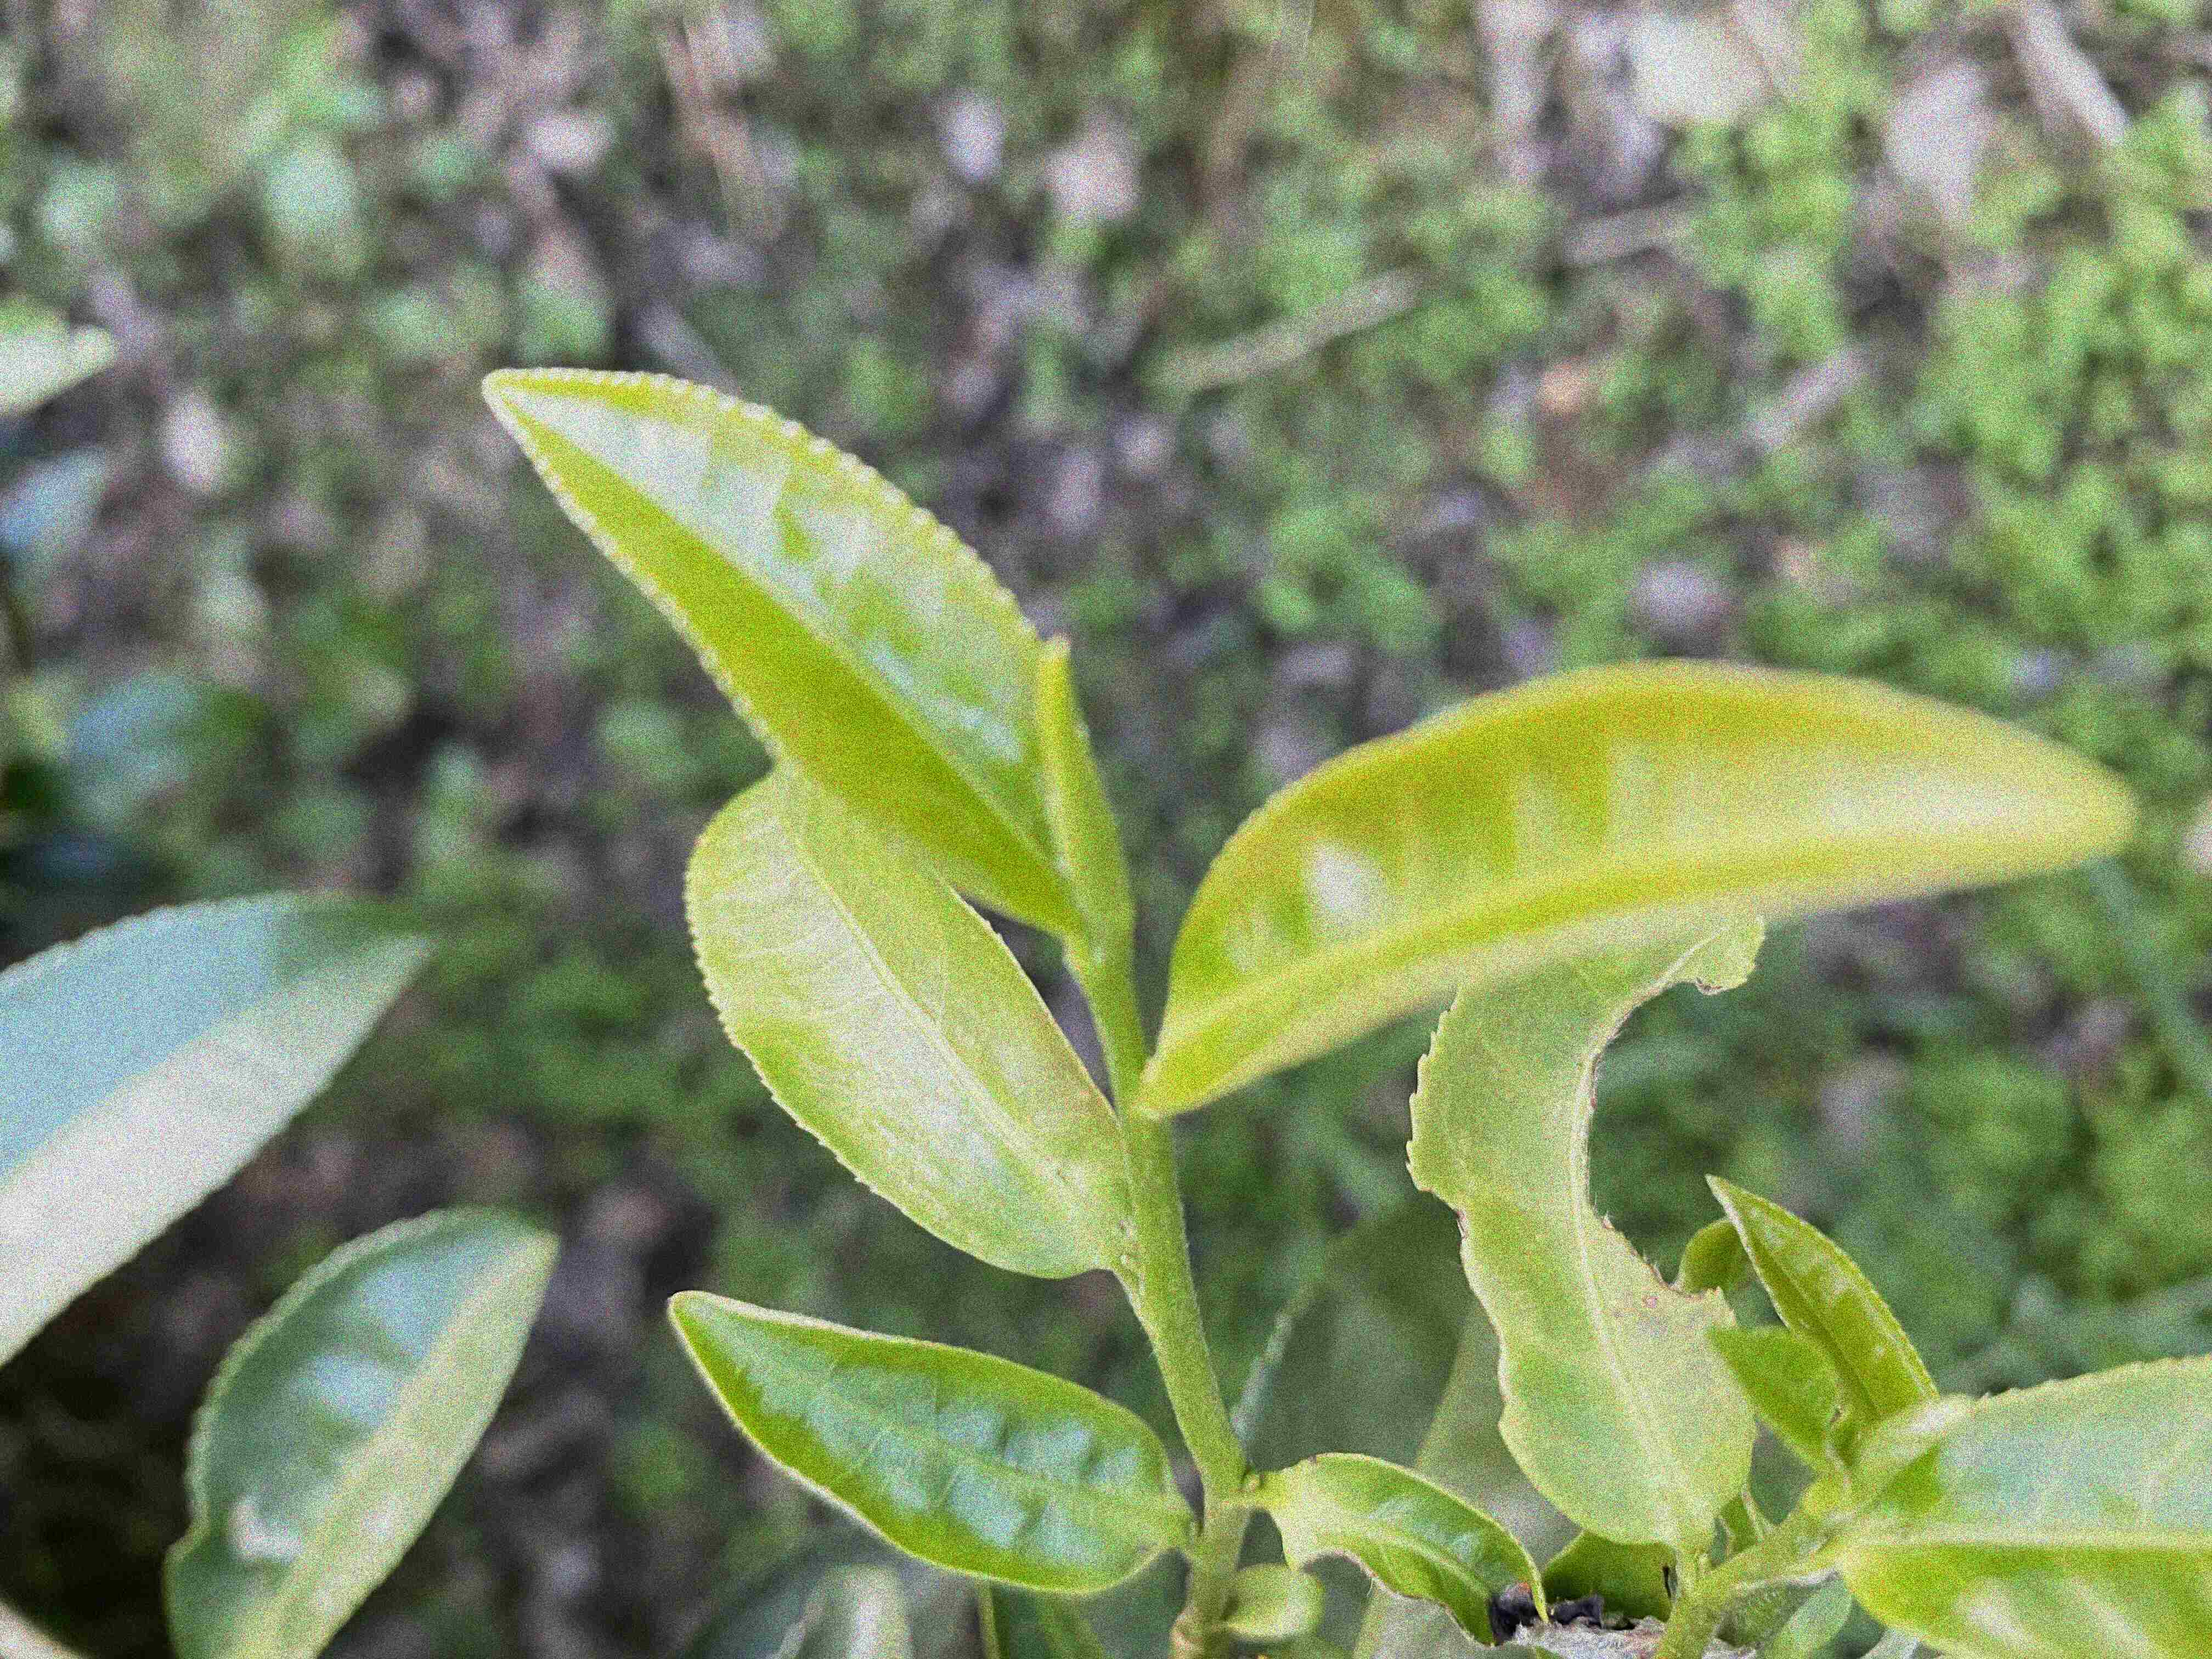chihuo_high: (1404, 910, 1771, 1549)
healthy: (482, 361, 1103, 934), (681, 763, 1129, 1284), (665, 1290, 1174, 1605)
tanju_high: (1263, 1448, 1667, 1657)
tanju_low: (1139, 655, 2141, 1117)
